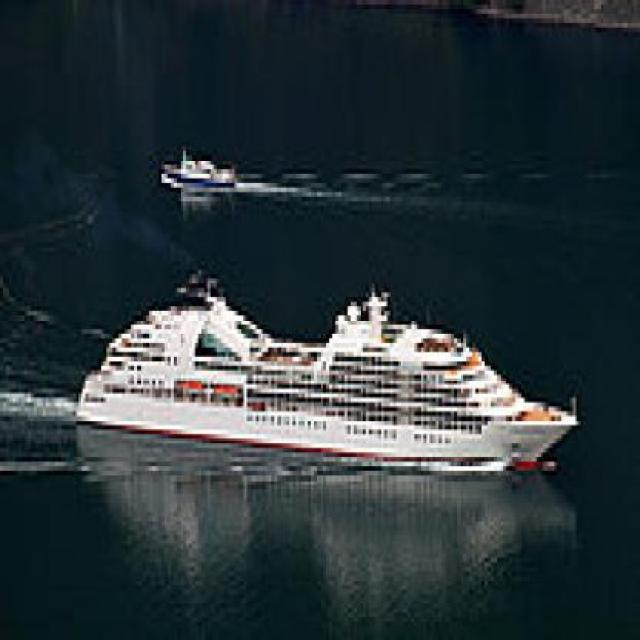cruise: (53, 252, 587, 486)
